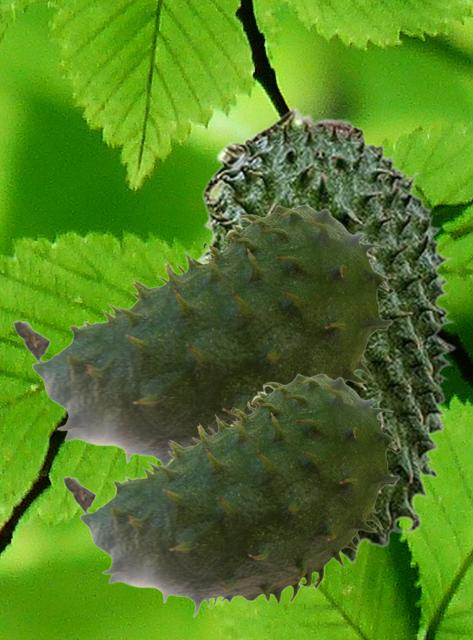guyabano: (194, 105, 456, 563), (12, 204, 393, 465), (62, 373, 400, 617)
